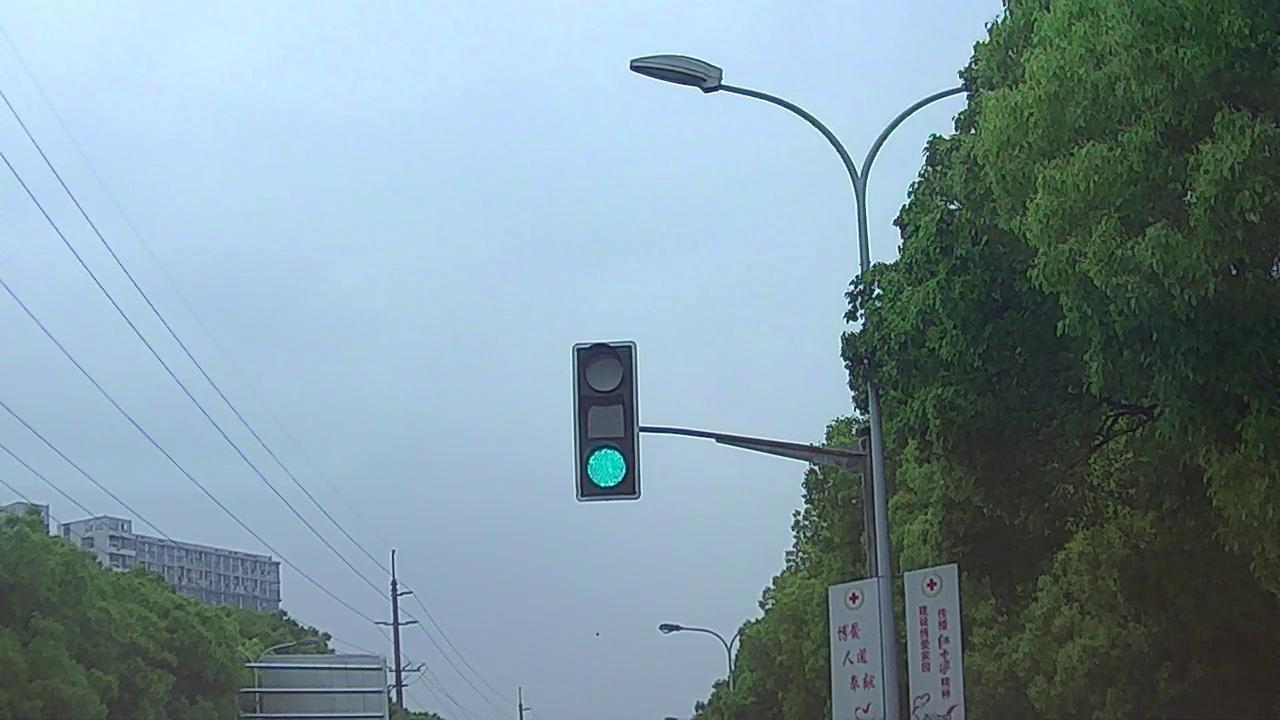traffic_light: (575, 344, 639, 500)
